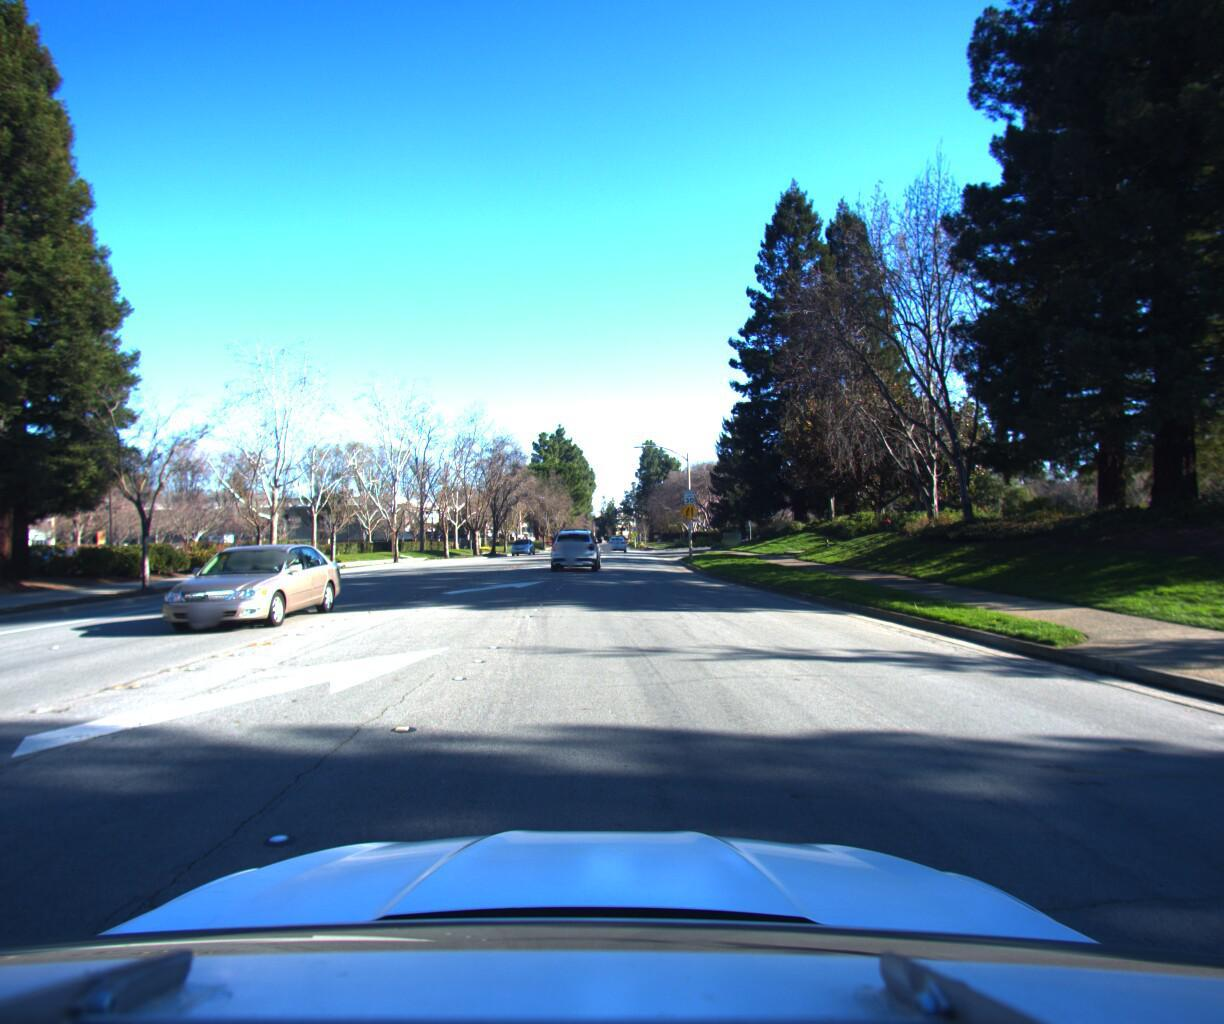car: (149, 536, 352, 633), (550, 520, 602, 566), (508, 532, 536, 549), (606, 527, 626, 545)
